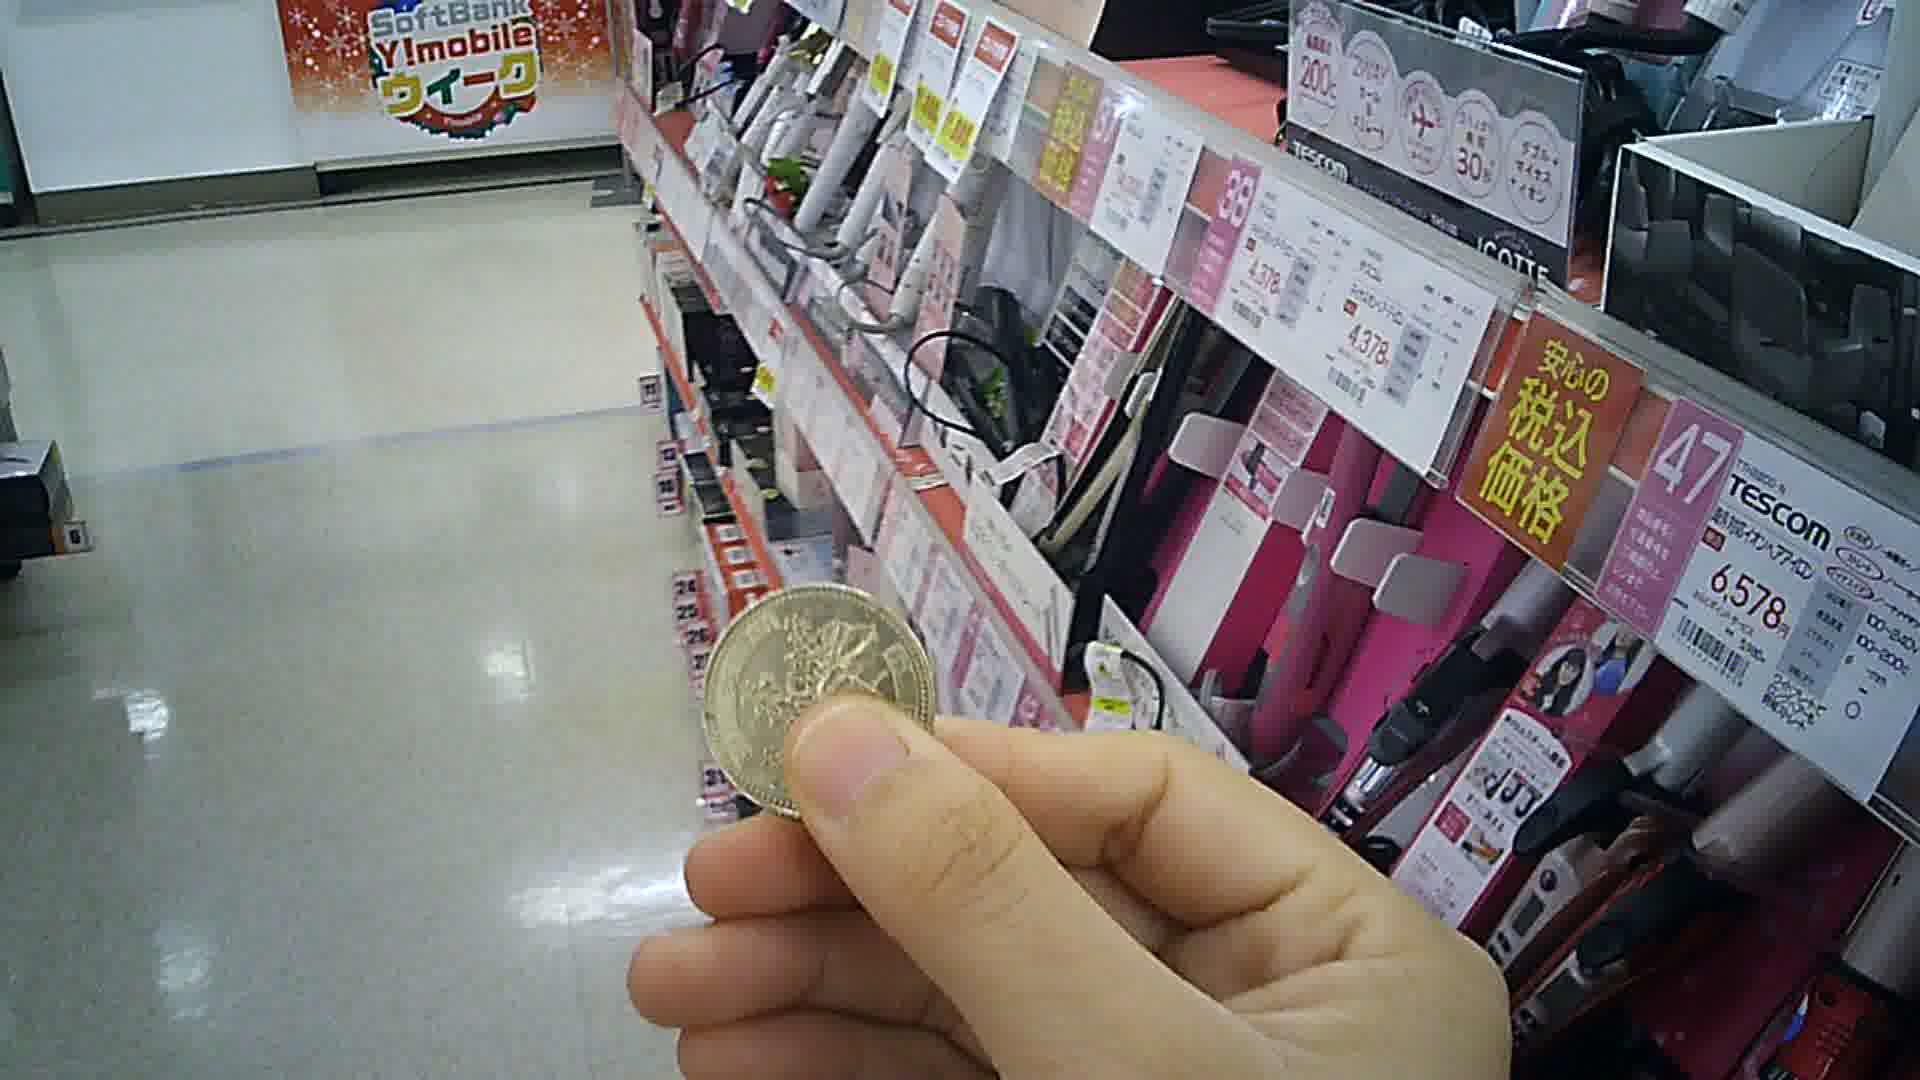500 Yen: (696, 575, 947, 825)
